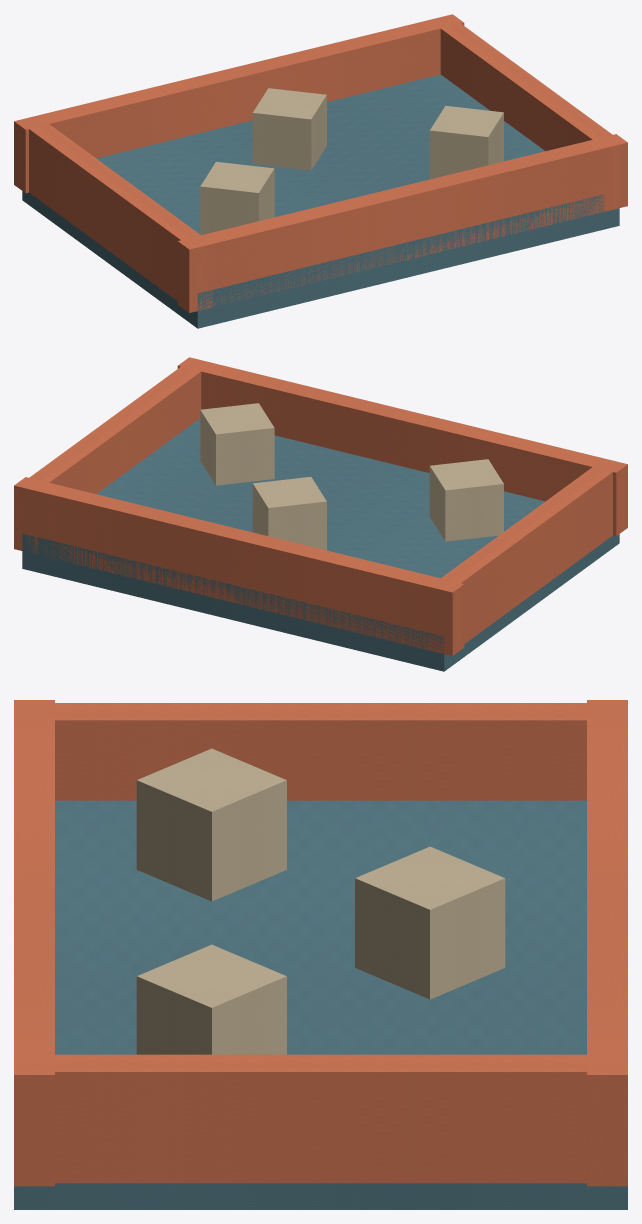
The model's file is atlas100-s042-a03.lod2.glb.
The picture shows the model from 3 angles, top to bottom: view 1: azimuth 30°, elevation 25°; view 2: azimuth 150°, elevation 25°; view 3: azimuth 270°, elevation 25°; orthographic projection. The views are drawn at different scales.
Visible parts, largest first — view 1: atlas100-s042-a03:part-000, atlas100-s042-a03:part-002, atlas100-s042-a03:part-001, atlas100-s042-a03:part-003, atlas100-s042-a03:part-004, atlas100-s042-a03:part-006, atlas100-s042-a03:part-010, atlas100-s042-a03:part-008; view 2: atlas100-s042-a03:part-000, atlas100-s042-a03:part-001, atlas100-s042-a03:part-002, atlas100-s042-a03:part-003, atlas100-s042-a03:part-004, atlas100-s042-a03:part-010, atlas100-s042-a03:part-008, atlas100-s042-a03:part-006; view 3: atlas100-s042-a03:part-000, atlas100-s042-a03:part-004, atlas100-s042-a03:part-003, atlas100-s042-a03:part-001, atlas100-s042-a03:part-002, atlas100-s042-a03:part-006, atlas100-s042-a03:part-008, atlas100-s042-a03:part-010.
Part boxes in pixels (<box>): atlas100-s042-a03:part-000: <box>22,74,619,328</box>; atlas100-s042-a03:part-002: <box>177,134,627,312</box>; atlas100-s042-a03:part-001: <box>14,14,464,193</box>; atlas100-s042-a03:part-003: <box>29,124,212,311</box>; atlas100-s042-a03:part-004: <box>430,15,624,211</box>; atlas100-s042-a03:part-006: <box>252,88,326,170</box>; atlas100-s042-a03:part-010: <box>429,105,503,179</box>; atlas100-s042-a03:part-008: <box>200,161,274,235</box>; atlas100-s042-a03:part-000: <box>22,418,619,671</box>; atlas100-s042-a03:part-001: <box>14,477,464,655</box>; atlas100-s042-a03:part-002: <box>177,357,627,536</box>; atlas100-s042-a03:part-003: <box>429,467,612,654</box>; atlas100-s042-a03:part-004: <box>17,358,211,554</box>; atlas100-s042-a03:part-010: <box>200,403,274,485</box>; atlas100-s042-a03:part-008: <box>429,459,503,541</box>; atlas100-s042-a03:part-006: <box>252,477,326,550</box>; atlas100-s042-a03:part-000: <box>14,800,627,1209</box>; atlas100-s042-a03:part-004: <box>14,1054,627,1183</box>; atlas100-s042-a03:part-003: <box>14,703,627,800</box>; atlas100-s042-a03:part-001: <box>587,700,627,1186</box>; atlas100-s042-a03:part-002: <box>14,700,54,1186</box>; atlas100-s042-a03:part-006: <box>355,846,505,999</box>; atlas100-s042-a03:part-008: <box>136,748,286,901</box>; atlas100-s042-a03:part-010: <box>136,944,286,1054</box>.
Bounding box in the file's own units: 1.36 × 0.2563 × 0.9414.
Materials: 3 (3 with a texture image).
